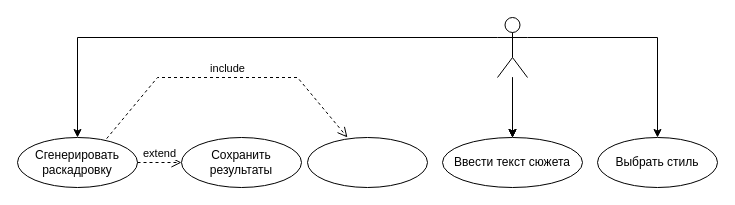
Image size: 735x205. Some labels were removed from this diagram. The shapes that lost their labels are listed below. From the top down, each one's box as (x1, y1, x2, y2) in pixels, then its label:
(496, 16, 528, 78): Пользователь
(306, 136, 428, 188): Перевести и улучшить промт
